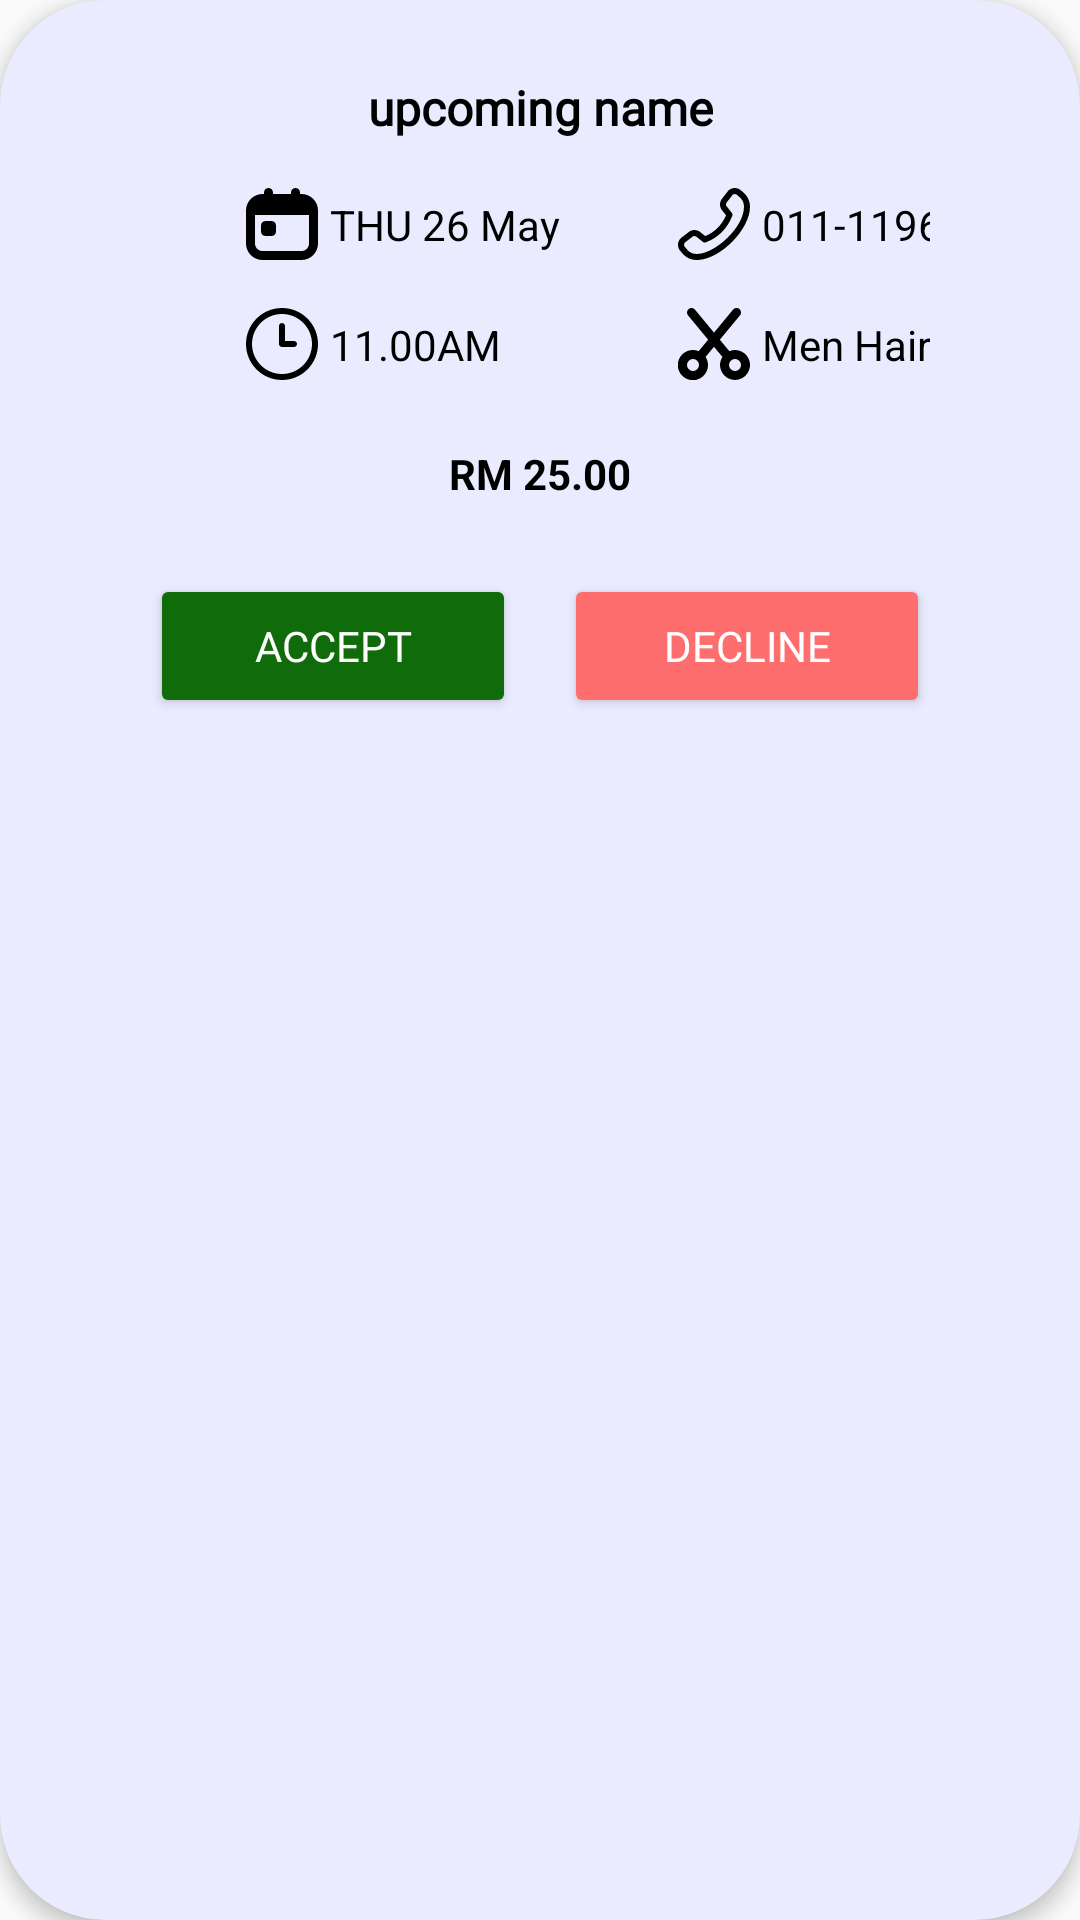

Where to tap for icons on this 1080w x 1920h app screen, as (x=x, y=y):
calendar: (x=282, y=224)
clock: (x=282, y=344)
phone: (x=714, y=224)
scissors: (x=714, y=344)
